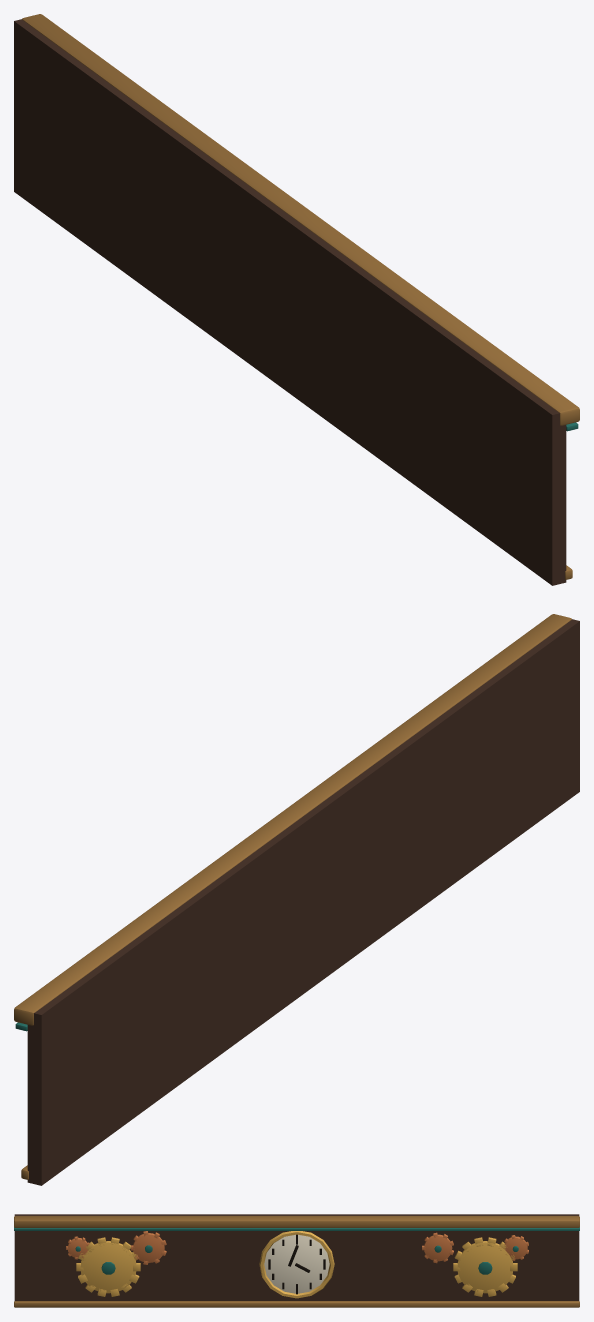
The model's file is WallClock.fbx.
3 renders of one model, top to bottom at view 1: azimuth 30°, elevation 25°; view 2: azimuth 150°, elevation 25°; view 3: azimuth 270°, elevation 25°, orthographic. The views are drawn at different scales.
Parts seen in each view (by area): view 1: WallClock; view 2: WallClock; view 3: WallClock.
Boxes of the visible parts, bbox=[...] form: WallClock: bbox=[14, 14, 579, 585]; WallClock: bbox=[14, 614, 579, 1185]; WallClock: bbox=[14, 1214, 579, 1307].
Bounding box in the file's own units: 240 × 1410 × 8020.
